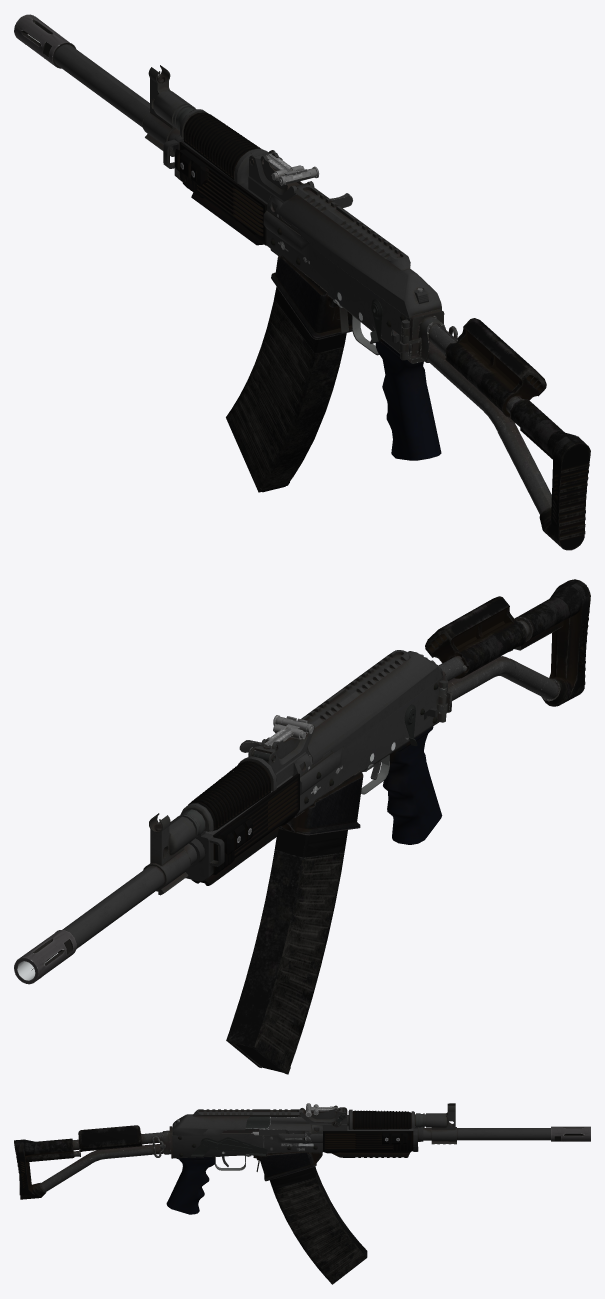
3 renders of one model, top to bottom at view 1: azimuth 30°, elevation 25°; view 2: azimuth 150°, elevation 25°; view 3: azimuth 270°, elevation 25°, orthographic. The views are drawn at different scales.
Visible parts, largest first — view 1: zz_aa12; view 2: zz_aa12; view 3: zz_aa12.
Part boxes in pixels (x1,y1,x2,y2): zz_aa12: [14, 14, 590, 550]; zz_aa12: [14, 579, 590, 1074]; zz_aa12: [14, 1103, 590, 1284].
Size of the model in its own units: 0.0844 by 0.3276 by 0.97.
22 materials, 22 textured.
